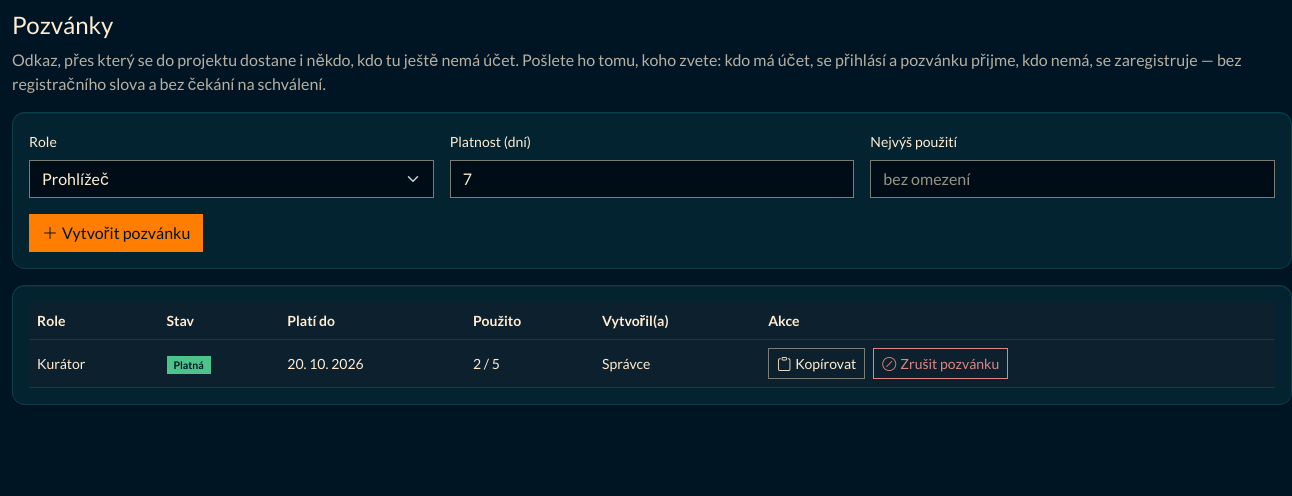
InvitesSection › words a refusal of the backend
Step 1. Click the button "Vytvořit pozvánku" → (116, 233), box [29,214,203,252]
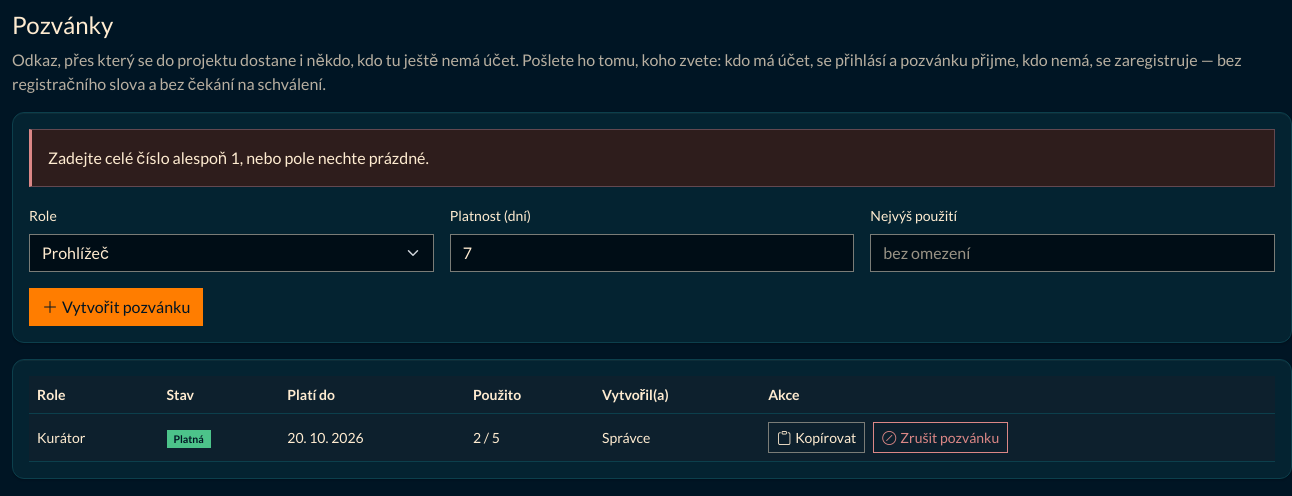
Check: the message reads "Zadejte celé číslo alespoň 1, nebo pole nechte prázdné.", box [48,148,429,167]
